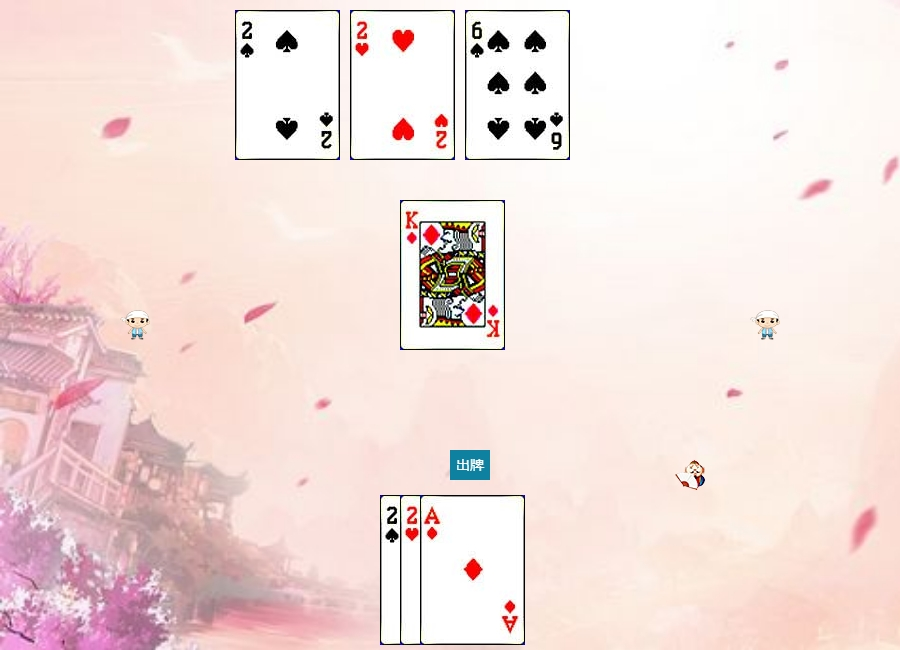13~1: (400, 200, 505, 350)
14~1: (420, 495, 525, 645)
15~3: (350, 10, 455, 160), (400, 495, 505, 645)
15~4: (235, 10, 340, 160), (380, 495, 485, 645)
6~4: (465, 10, 570, 160)
